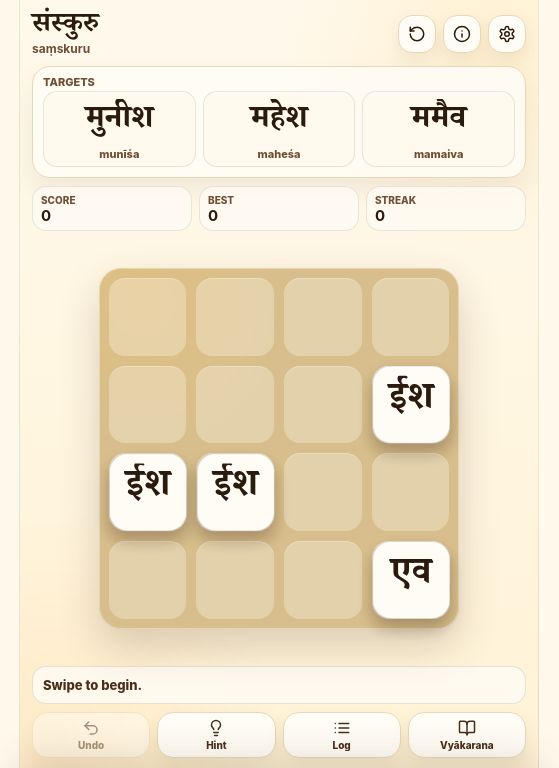
Test case: App smoke flow › shows hint feedback even after a move has been logged
Press ArrowLeft
Wait 420 ms
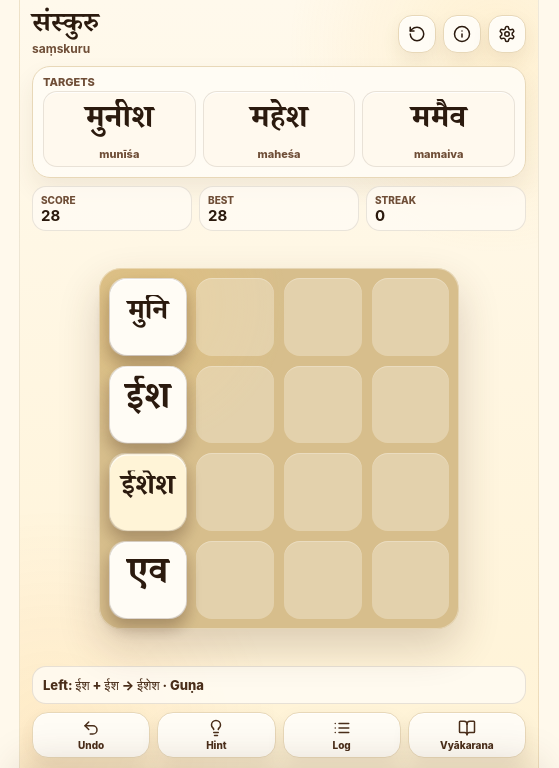
Click the button "Hint" at (216, 735), box [157,712,276,758]
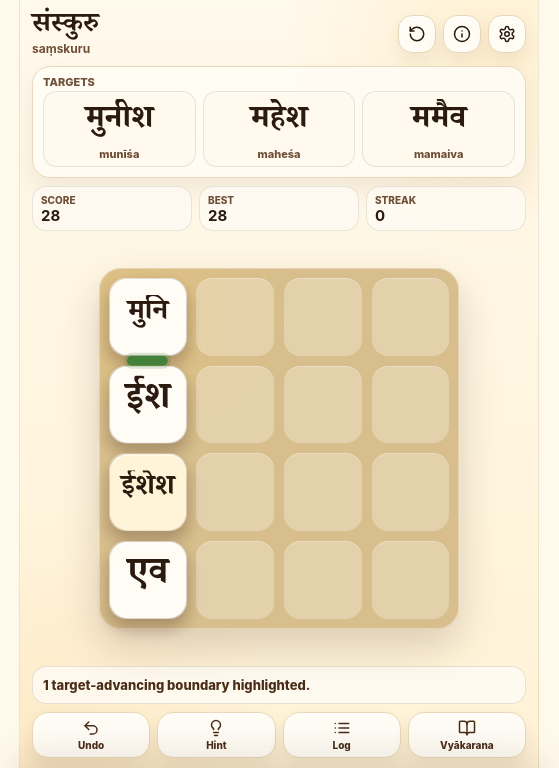
Check: the text "1 target-advancing boundary highlighted." is shown, box [43,677,310,693]
